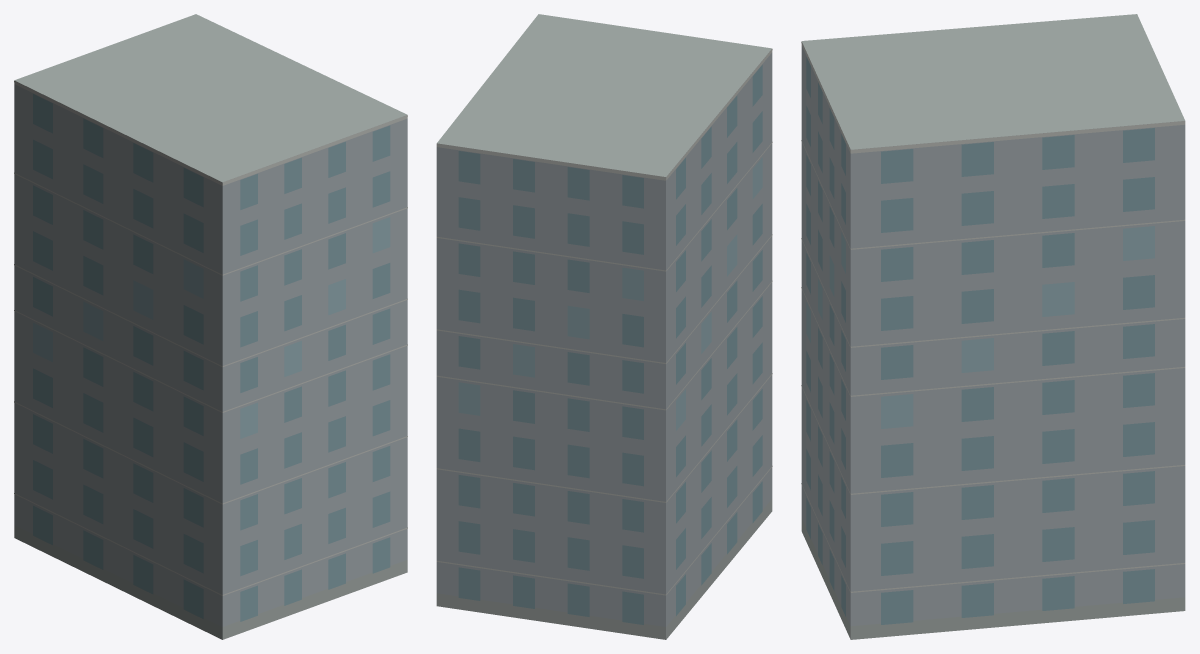
Rendered from residential-23c8a728-b77a-4e71-9ddf-25e097ea35f5.glb.
The picture shows the model from 3 angles, left to right: view 1: azimuth 30°, elevation 25°; view 2: azimuth 150°, elevation 25°; view 3: azimuth 270°, elevation 25°; orthographic projection. The views are drawn at different scales.
Parts seen in each view (by area): view 1: residential-23c8a728-b77a-4e71-9ddf-25e097ea35f5.tmp; view 2: residential-23c8a728-b77a-4e71-9ddf-25e097ea35f5.tmp; view 3: residential-23c8a728-b77a-4e71-9ddf-25e097ea35f5.tmp.
Boxes of the visible parts, x1,y1,x2,y2 form: residential-23c8a728-b77a-4e71-9ddf-25e097ea35f5.tmp: (14,14,407,639); residential-23c8a728-b77a-4e71-9ddf-25e097ea35f5.tmp: (436,14,772,639); residential-23c8a728-b77a-4e71-9ddf-25e097ea35f5.tmp: (801,14,1185,639).
Size of the model in its own units: 18.15 by 30.5 by 21.67.
